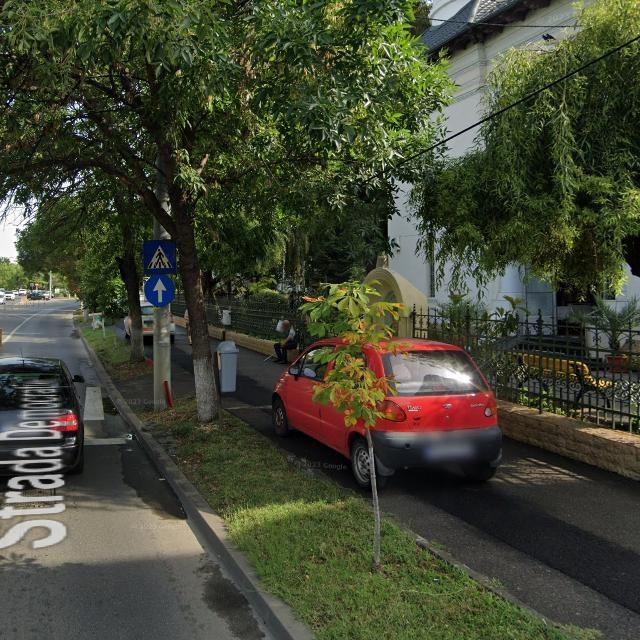info_crosswalk: (143, 240, 177, 273)
